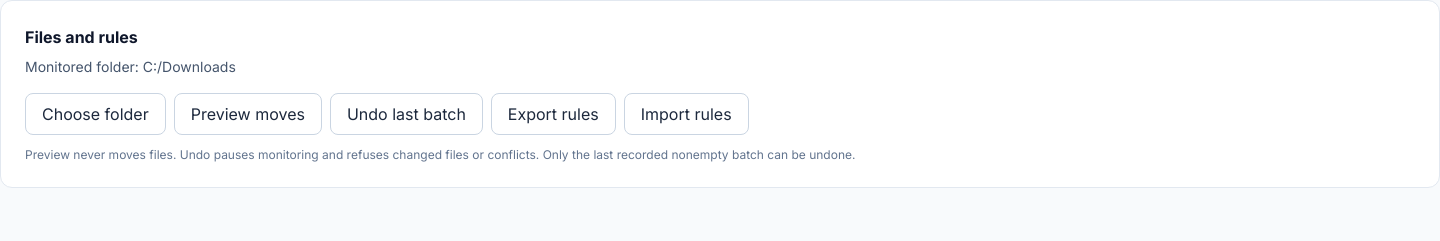
Test: FileTools › changes the selected folder and explains the paused state
Click the button "Choose folder".
click(95, 114)  # box [25, 93, 166, 135]
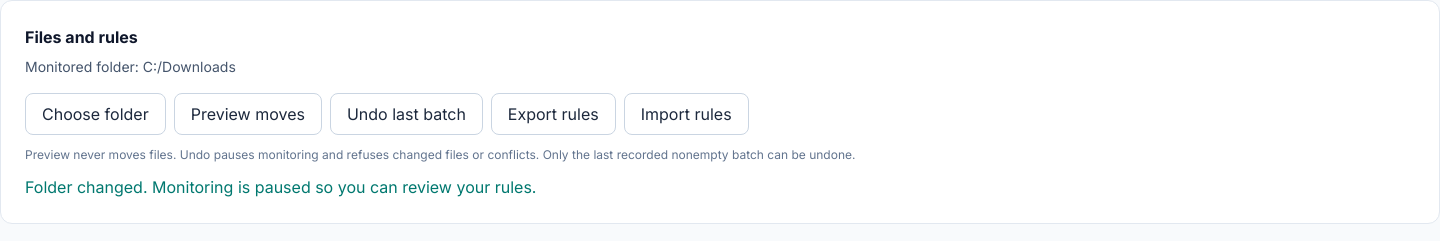
expect the message shows "Monitoring is paused": met, box [25, 177, 536, 197]
